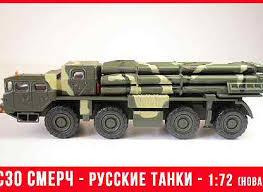MIL_SAM_TEL: (1, 58, 263, 139)
